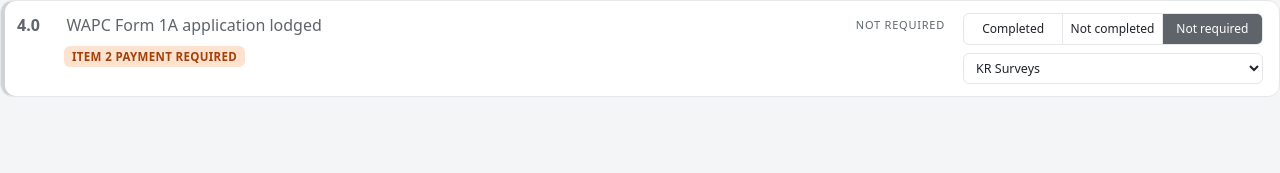
Test: useUpdateCheckpoint (through the card controls) › rolls back on 412, reloads the job and shows the stale banner
Click the button "Completed": (1014, 29) x1=964 y1=14 x2=1063 y2=44
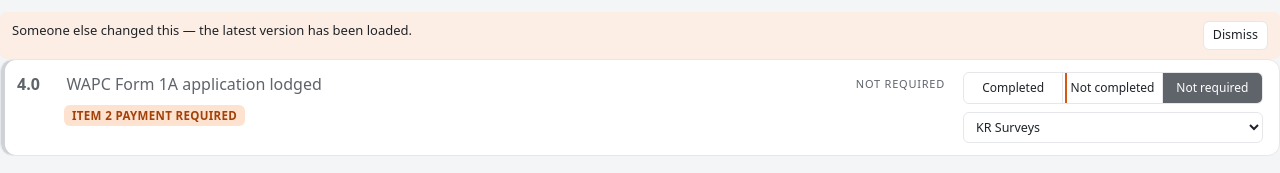
Result: the text "Someone else changed this — the latest version has been loaded." is shown at x1=12 y1=21 x2=412 y2=39
